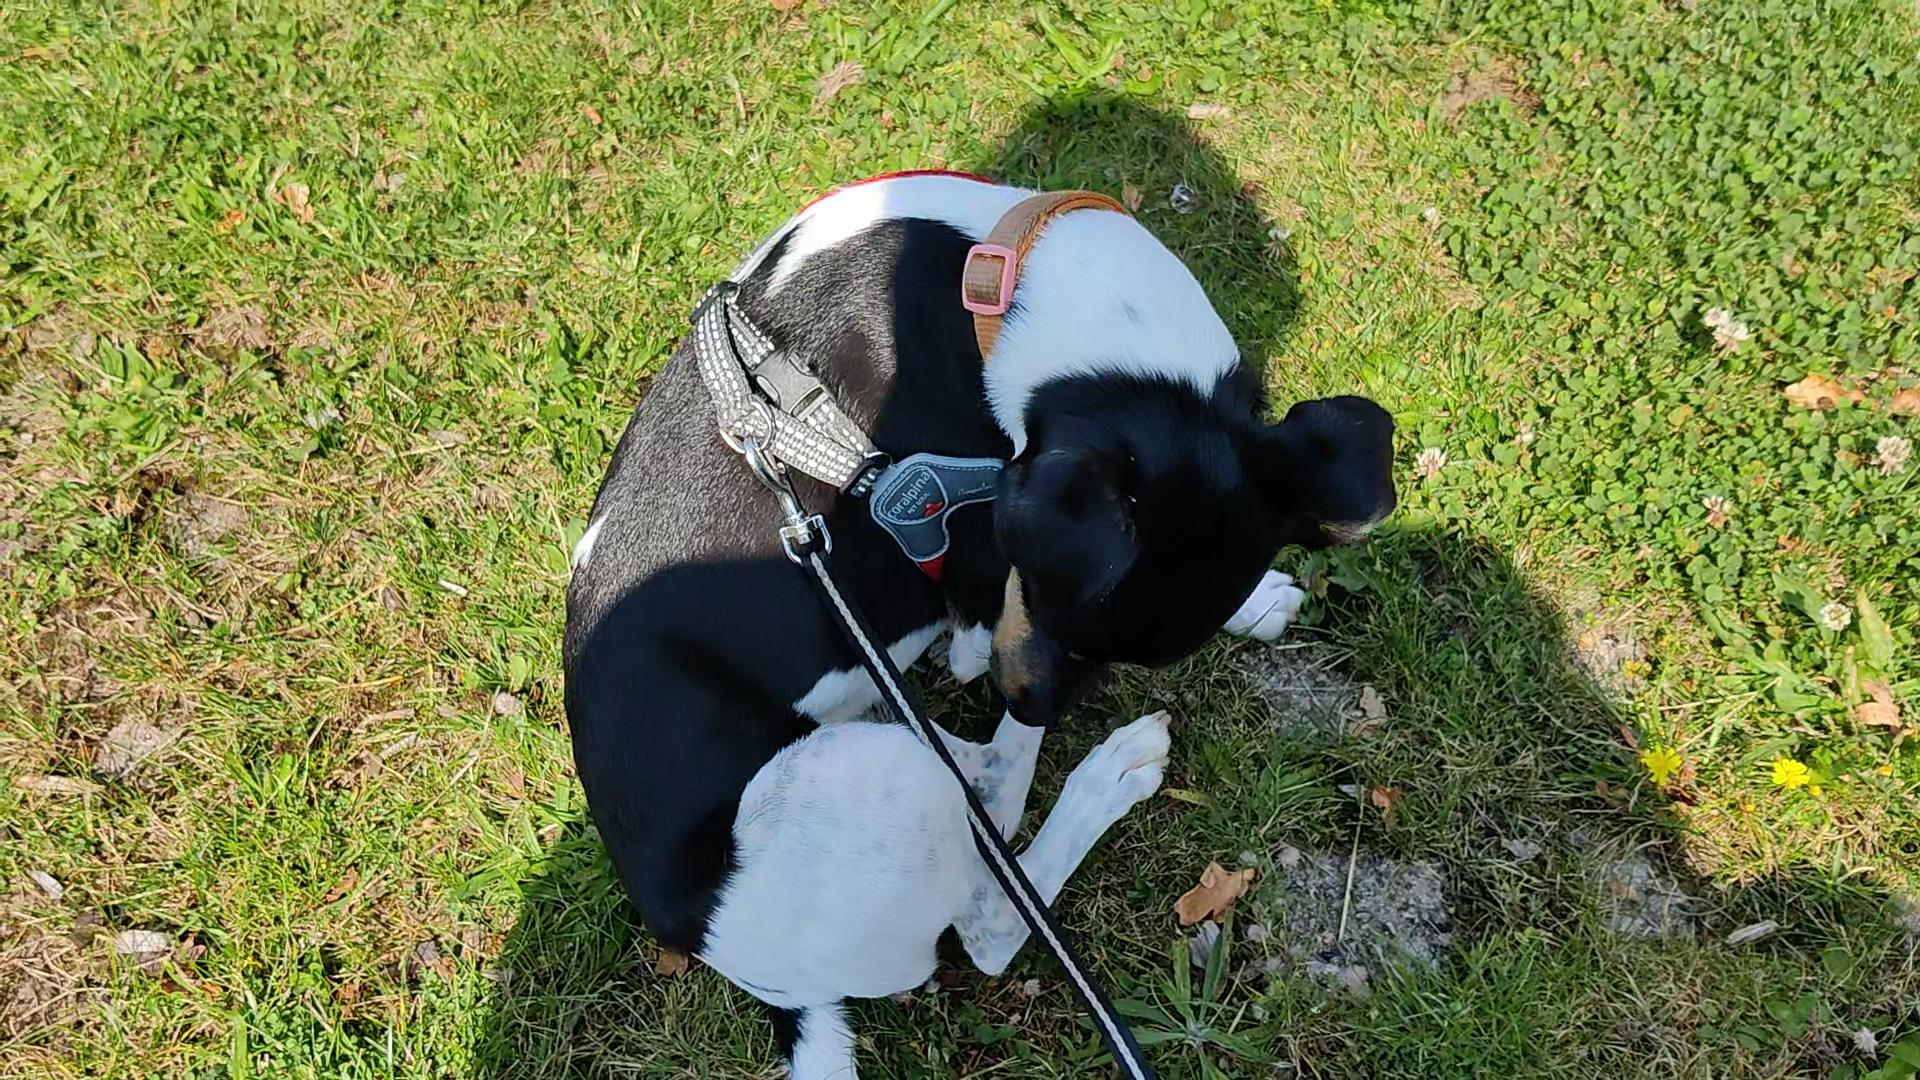Dog: (550, 153, 1411, 1079)
